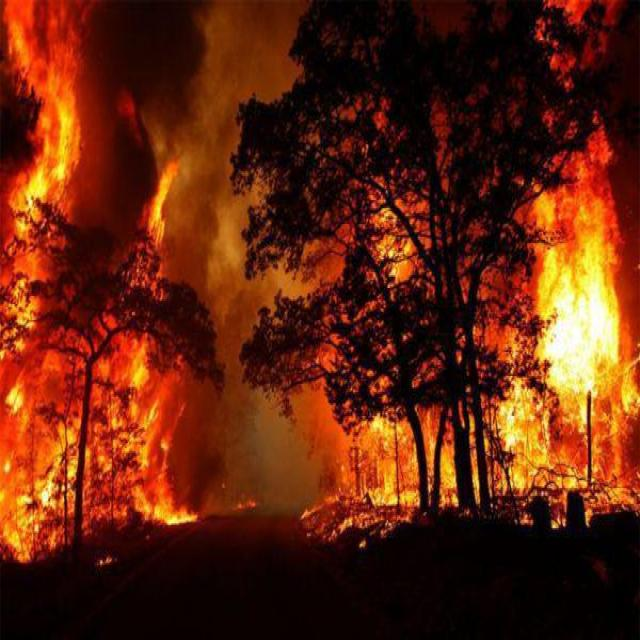fire: (2, 4, 80, 539), (538, 121, 633, 504), (318, 412, 532, 512), (101, 328, 192, 530), (140, 156, 178, 270)
